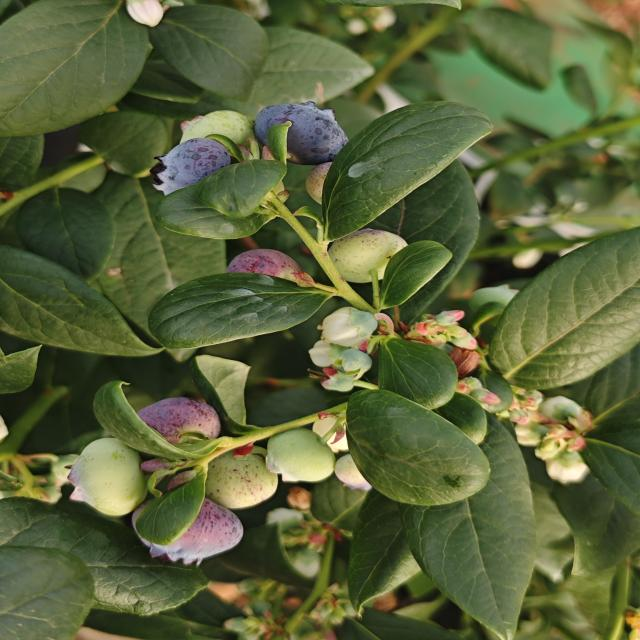ripe: (244, 99, 354, 167), (141, 131, 240, 202)
